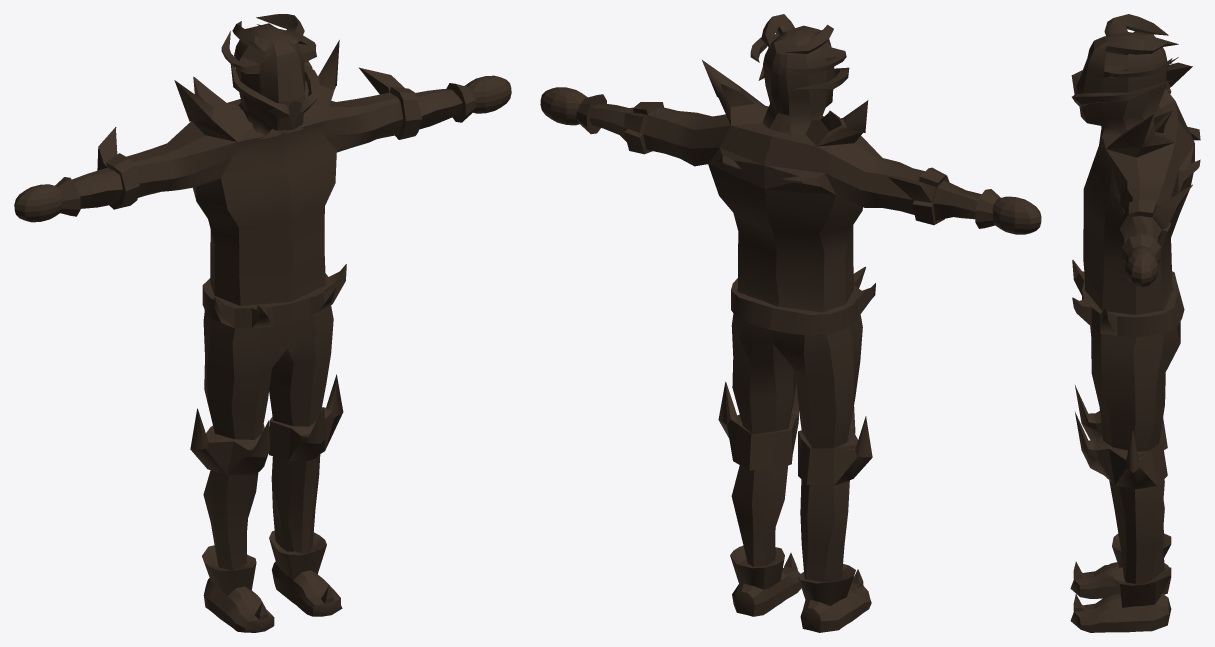
File: TIER4ALLARMOR.fbx
3 renders of one model, left to right at view 1: azimuth 30°, elevation 25°; view 2: azimuth 150°, elevation 25°; view 3: azimuth 270°, elevation 25°, orthographic.
Parts seen in each view (by area): view 1: polySurface8, LegLeft1_polySurface7, HelmetWHole; view 2: polySurface8, LegLeft1_polySurface7, HelmetWHole; view 3: LegLeft1_polySurface7, polySurface8, HelmetWHole.
Part boxes in pixels (x1,y1,x2,y2): polySurface8: (14,40,511,305); LegLeft1_polySurface7: (190,264,346,632); HelmetWHole: (221,14,319,138); polySurface8: (540,60,1041,312); LegLeft1_polySurface7: (718,266,875,632); HelmetWHole: (750,14,849,134); LegLeft1_polySurface7: (1070,260,1184,632); polySurface8: (1083,31,1200,314); HelmetWHole: (1071,14,1178,138).
Bounding box in the file's own units: 8.2 × 9.25 × 1.87.
